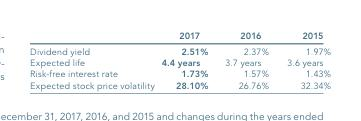table: (29, 29, 330, 90)
table column: (29, 29, 157, 90), (215, 29, 277, 90), (157, 29, 215, 90), (277, 29, 330, 90)
table column header: (29, 29, 330, 42)
table row: (29, 42, 330, 56), (29, 29, 330, 42), (29, 78, 330, 90), (29, 56, 330, 67), (29, 67, 330, 78)
